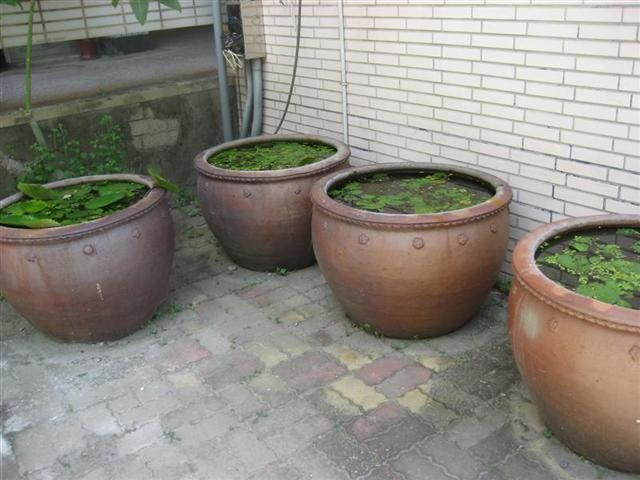bowl: (310, 160, 514, 338), (508, 212, 640, 474), (1, 174, 177, 344), (191, 132, 352, 273)
